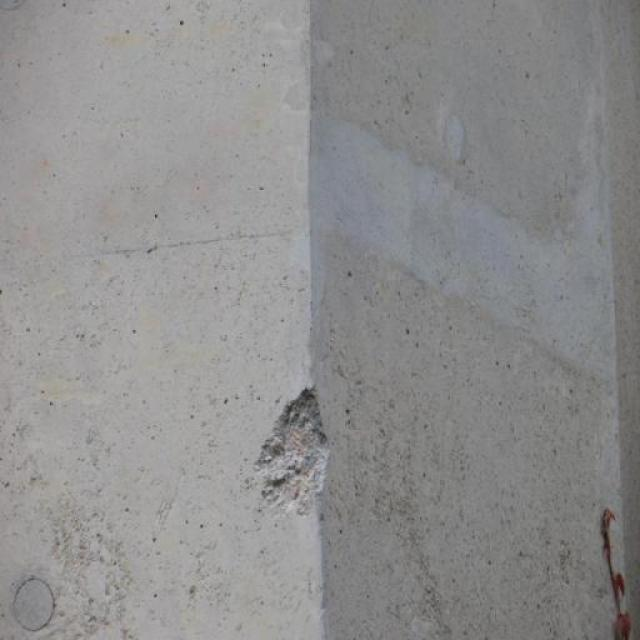D10: (258, 388, 329, 515)
